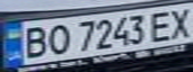2: (93, 16, 115, 51)
3: (127, 11, 151, 46)
4: (112, 14, 133, 48)
7: (72, 18, 96, 52)
B: (18, 24, 51, 60)
E: (145, 8, 178, 43)
O: (42, 21, 72, 56)
X: (166, 5, 193, 39)
